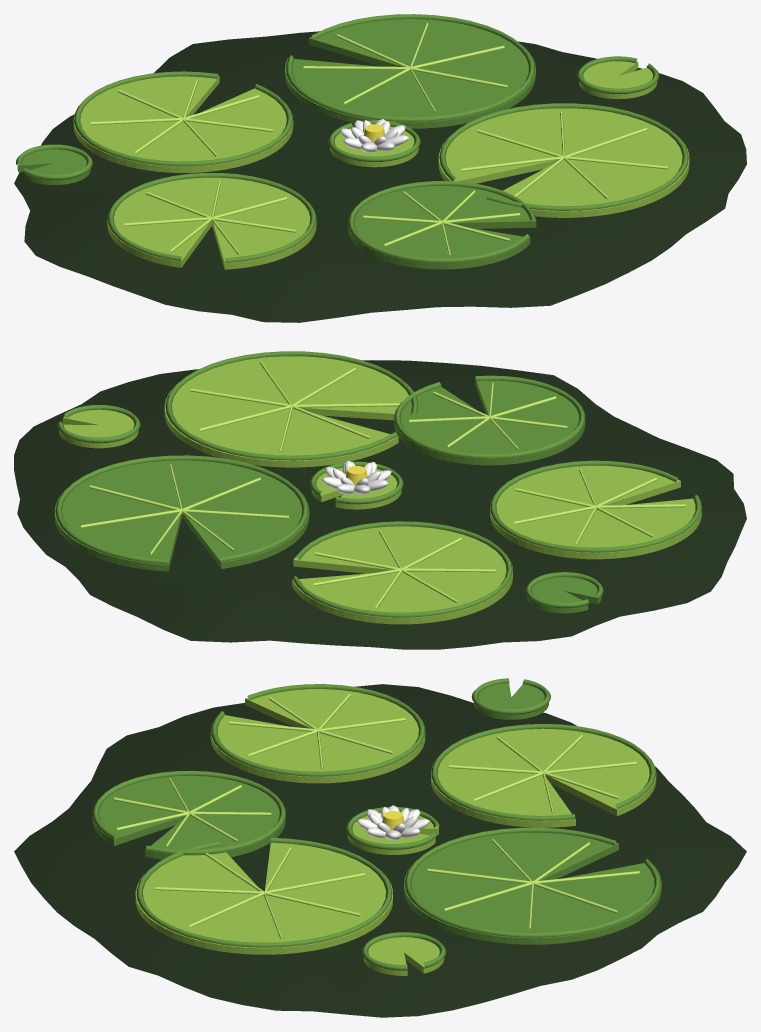
The model's file is detail_lily_pad_cluster.glb.
The picture shows the model from 3 angles, top to bottom: view 1: azimuth 30°, elevation 25°; view 2: azimuth 150°, elevation 25°; view 3: azimuth 270°, elevation 25°; orthographic projection. The views are drawn at different scales.
Parts seen in each view (by area): view 1: plaster, object 2; view 2: plaster, object 2; view 3: plaster, object 2.
Boxes of the visible parts, bbox=[...] form: plaster: bbox=[16, 14, 689, 269]; object 2: bbox=[14, 31, 746, 322]; plaster: bbox=[54, 351, 701, 624]; object 2: bbox=[14, 360, 746, 649]; plaster: bbox=[92, 678, 661, 975]; object 2: bbox=[14, 684, 746, 1017].
Bounding box in the file's own units: 1.4 × 0.08 × 1.3.
